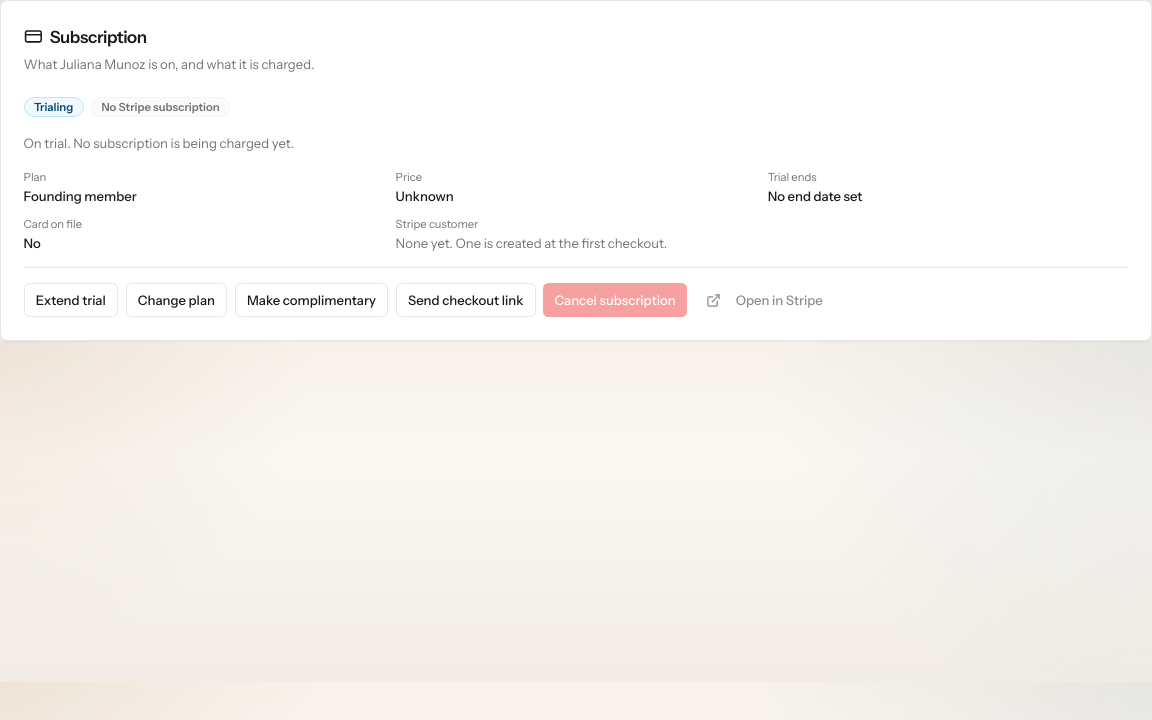
Test: WorkspaceSubscriptionStatus › returns focus to the action button when the dialog closes
This screenshot has width=1152, height=720.
Click the button "Extend trial": (71, 300) [24,283,118,317]
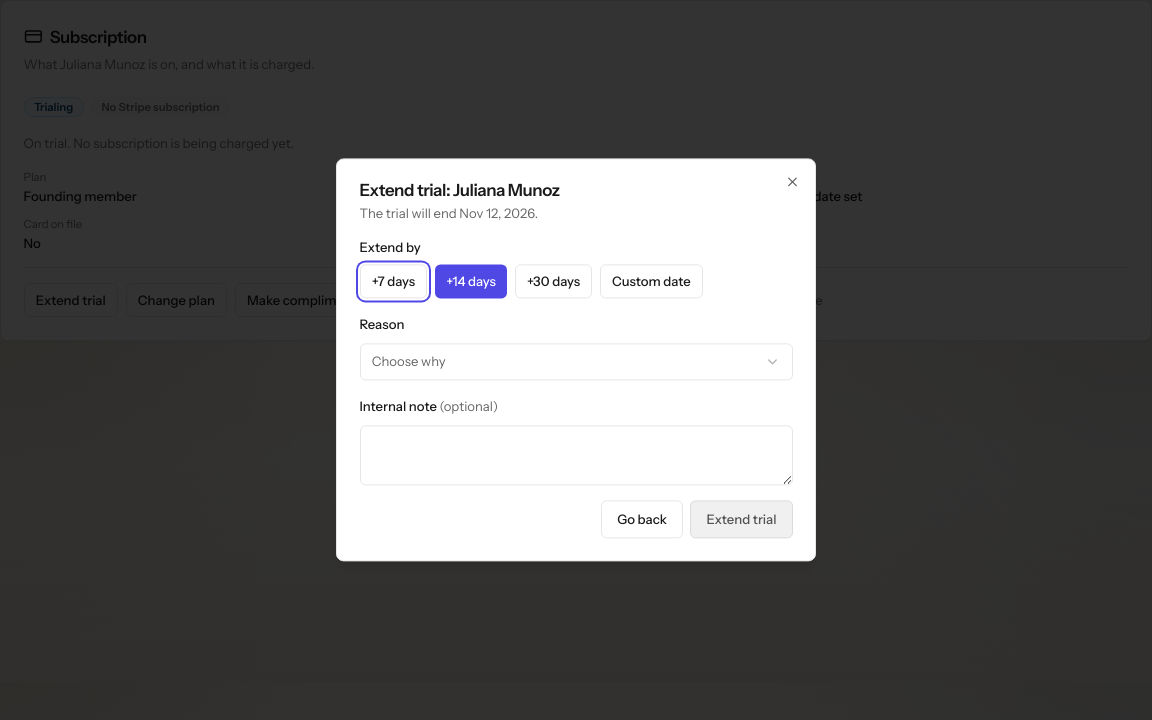
Press Escape in the dialog, box [336,158,816,562]
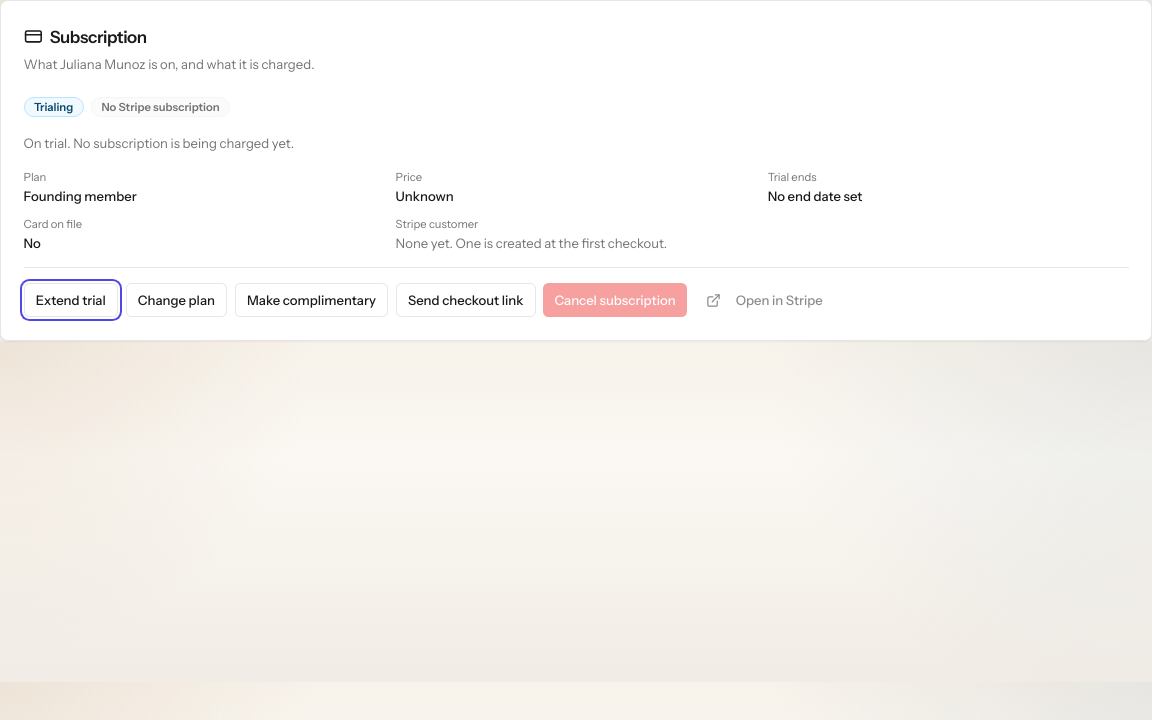
Now the dialog is gone
